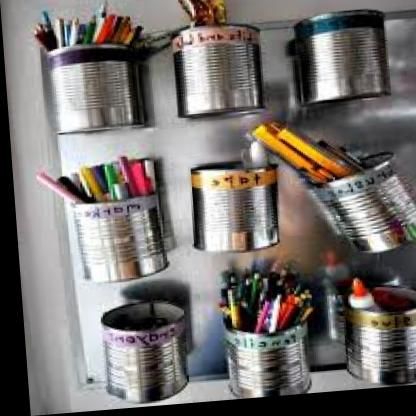Metal: (23, 0, 416, 415)
